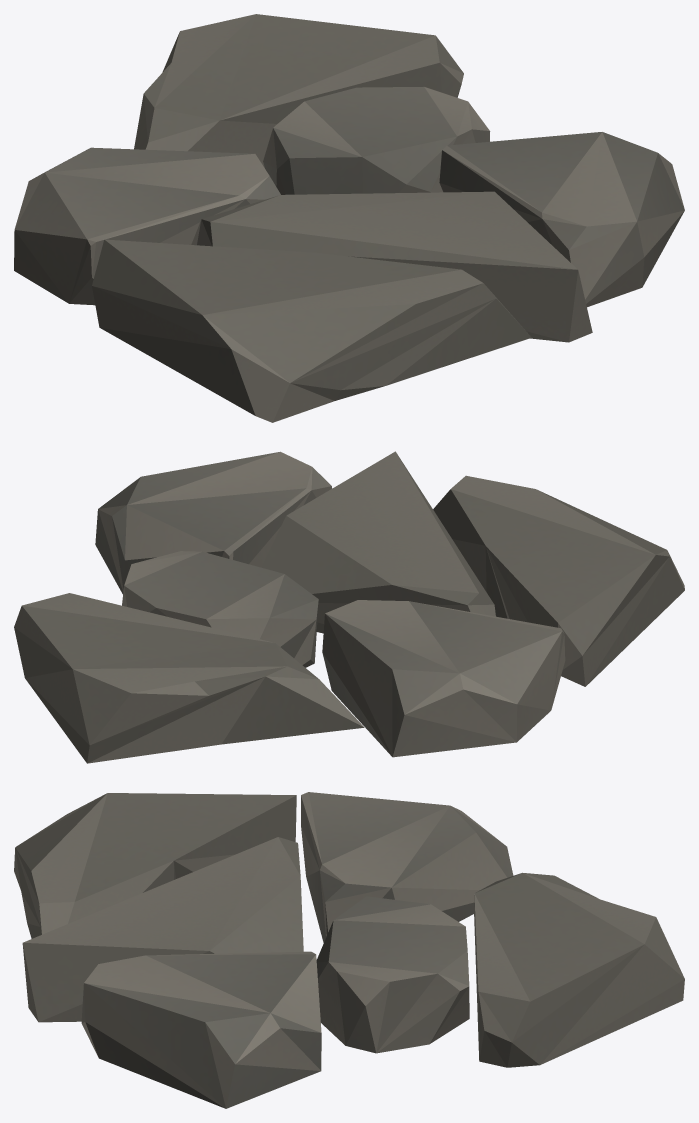
File: Floor_Br_5.fbx
3 renders of one model, top to bottom at view 1: azimuth 30°, elevation 25°; view 2: azimuth 150°, elevation 25°; view 3: azimuth 270°, elevation 25°, orthographic. The views are drawn at different scales.
Parts seen in each view (by area): view 1: polySurface573; view 2: polySurface573; view 3: polySurface573.
Part boxes in pixels (x1,y1,x2,y2): polySurface573: [14, 14, 684, 422]; polySurface573: [14, 451, 684, 763]; polySurface573: [14, 792, 684, 1108].
Bounding box in the file's own units: 197 × 27.26 × 219.
1 material, 1 textured.
